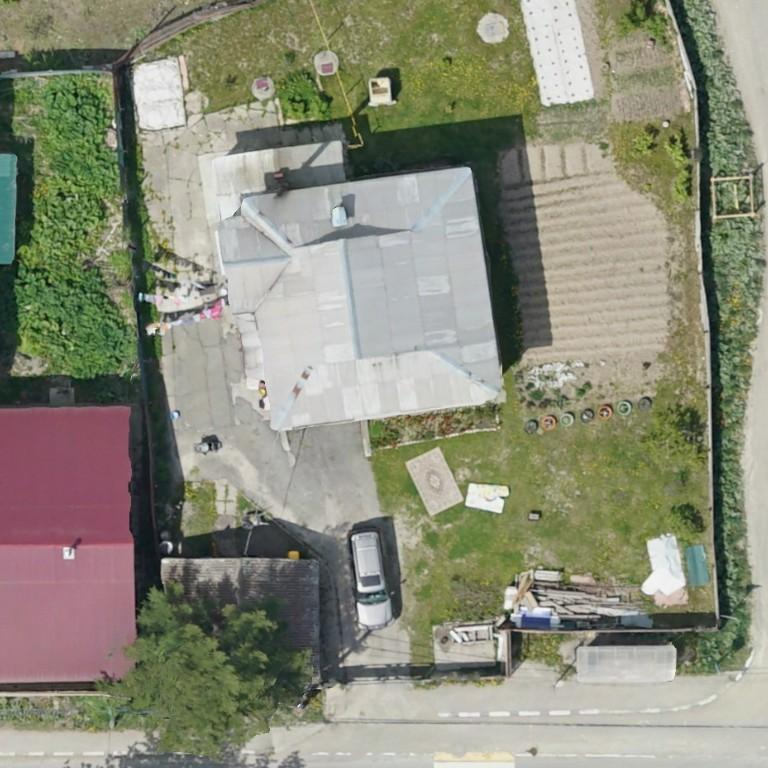hogweed: (45, 77, 122, 193)
